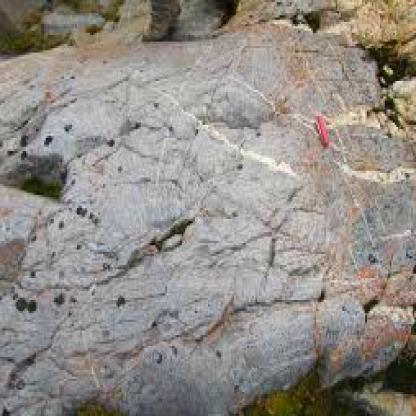Metamorphic_Quartize: (0, 44, 415, 415)
